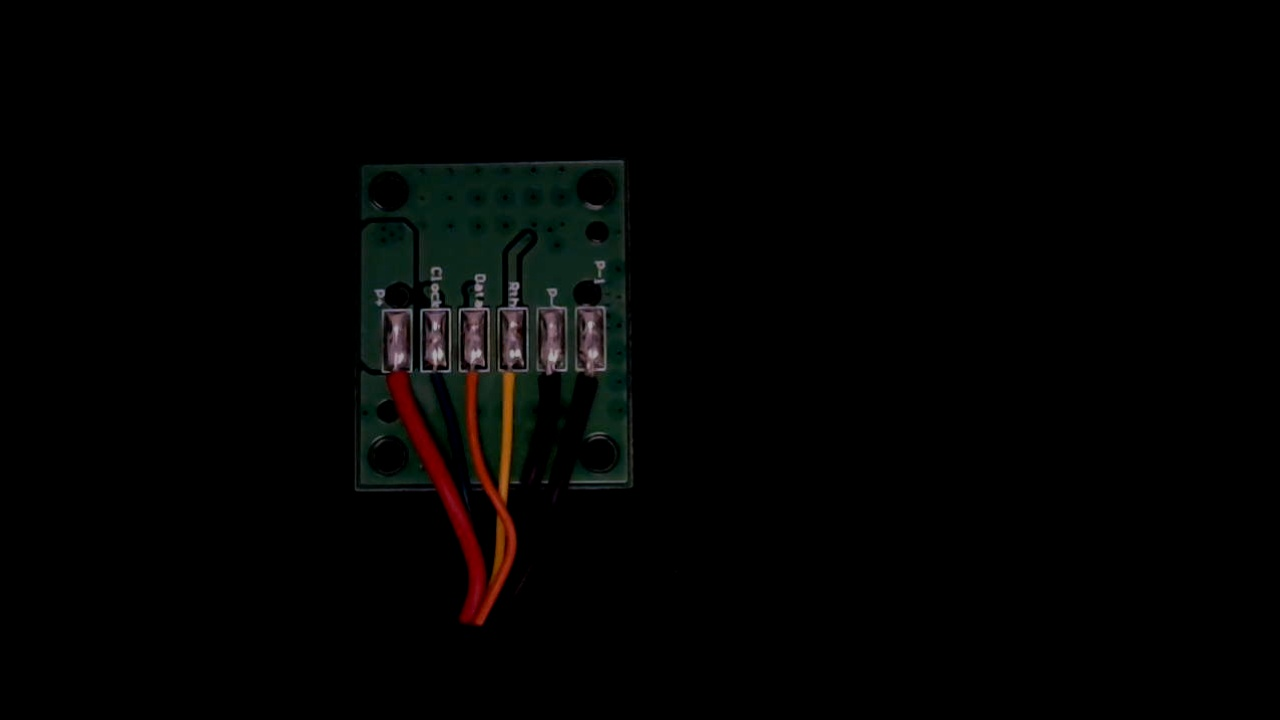Black: (533, 355, 567, 428)
Black1: (574, 354, 607, 421)
Green: (421, 352, 455, 422)
Orange: (460, 353, 492, 425)
Red: (380, 357, 414, 427)
Yellow: (497, 353, 531, 427)
